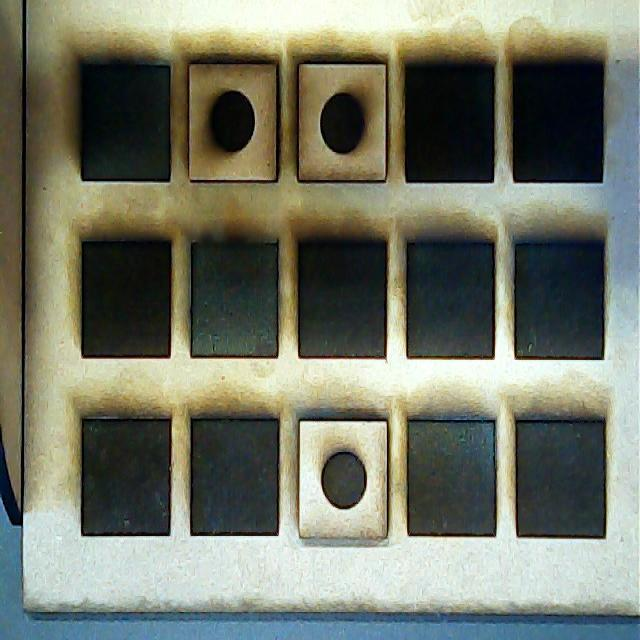circle: (297, 57, 392, 185), (189, 56, 281, 184), (299, 420, 390, 540)
nothing: (507, 46, 616, 192), (68, 46, 175, 190), (75, 405, 178, 541), (75, 232, 176, 365), (184, 230, 282, 365), (403, 412, 498, 544)
